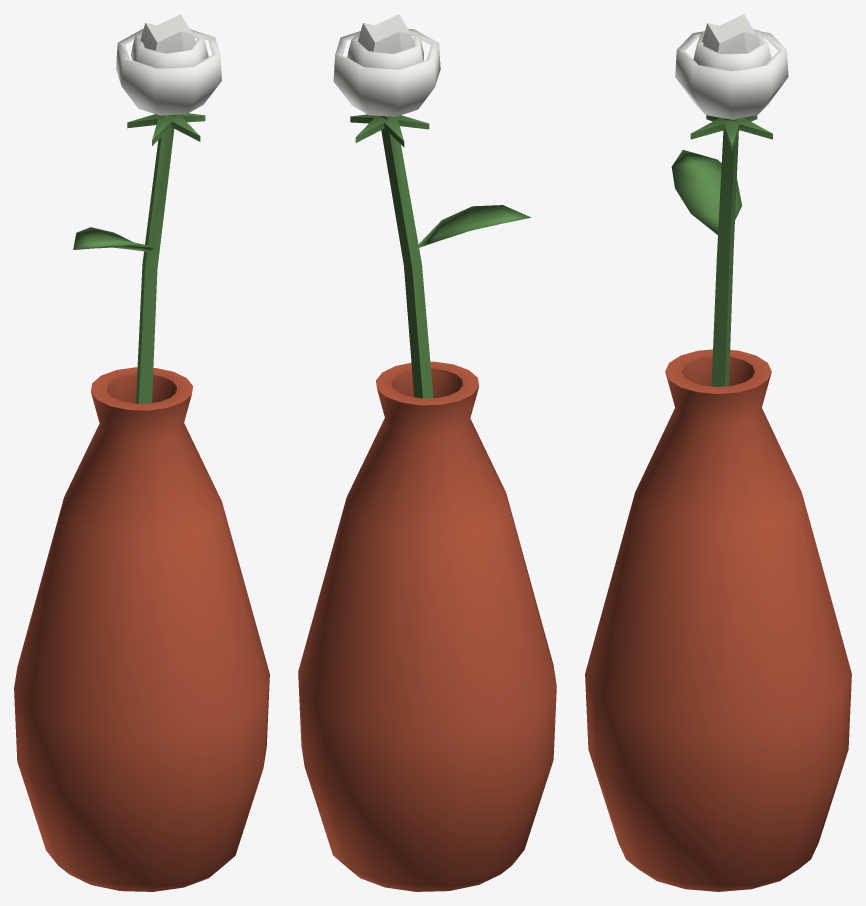
File: vaseSmall.glb
3 views of the same model, side by side, from view 1: azimuth 30°, elevation 25°; view 2: azimuth 150°, elevation 25°; view 3: azimuth 270°, elevation 25° (orthographic). The views are drawn at different scales.
Visible parts, largest first — view 1: vaseSmall; view 2: vaseSmall; view 3: vaseSmall.
Boxes of the visible parts, x1,y1,x2,y2 form: vaseSmall: (14, 14, 269, 891); vaseSmall: (298, 14, 556, 891); vaseSmall: (585, 14, 851, 891).
Size of the model in its own units: 0.08 by 0.2808 by 0.08.
